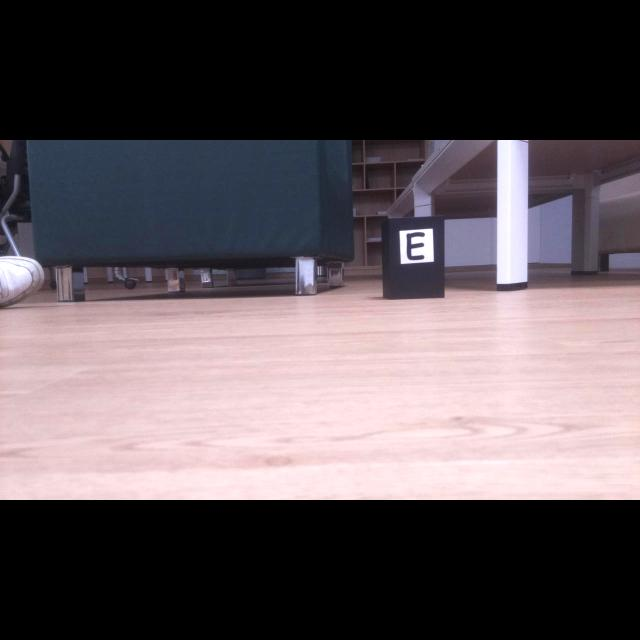E: (406, 232, 425, 260)
